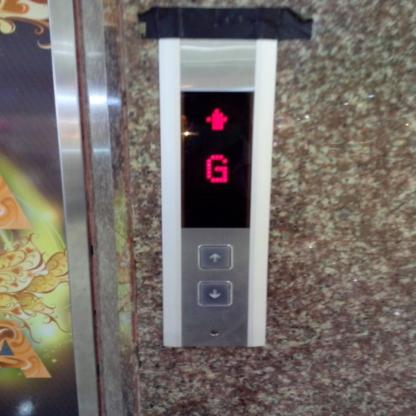down: (195, 278, 235, 309)
led: (176, 87, 256, 229)
up: (195, 242, 235, 272)
